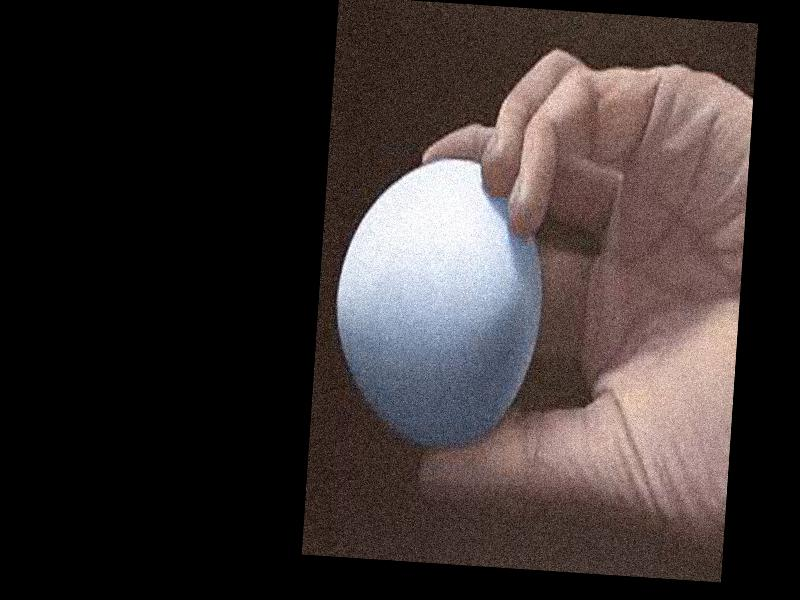Eggs: (326, 149, 548, 450)
